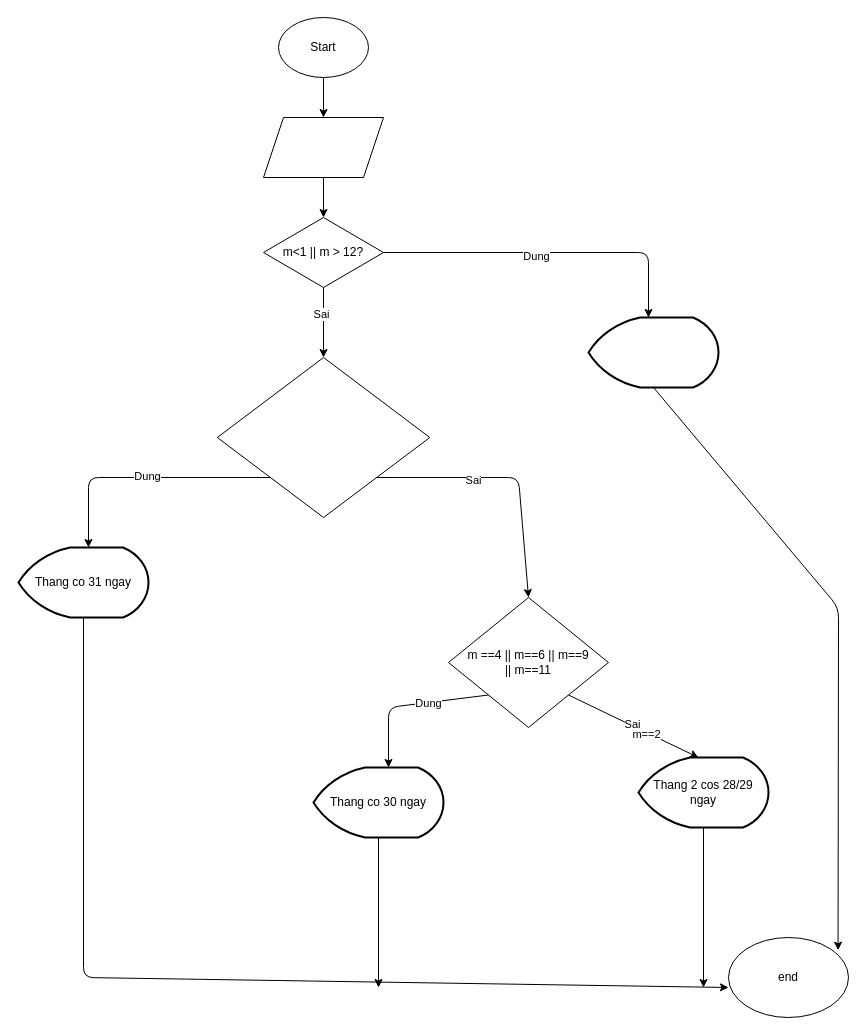
Image size: 866x1035. Some labels were removed from this diagram. The shapes that lost their labels are listed below. From the top down, each one's box as (x1, y1, x2, y2) in pixels, then its label:
(262, 116, 384, 178): Nhap d, m, y
(587, 316, 719, 388): Thang ko hop le
(216, 356, 430, 518): m==1 || m==3 || m==5 || m== 7 || m == 8 || m==10 || m==12
